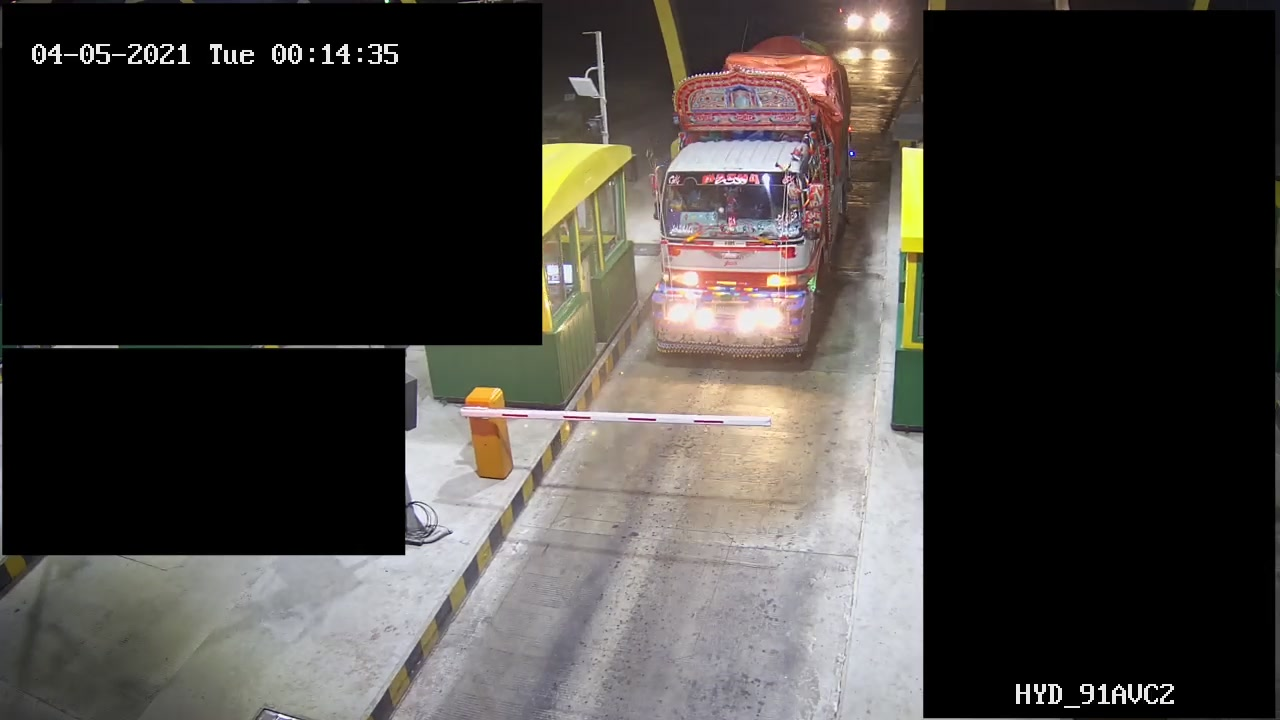F5: (637, 32, 861, 375)
